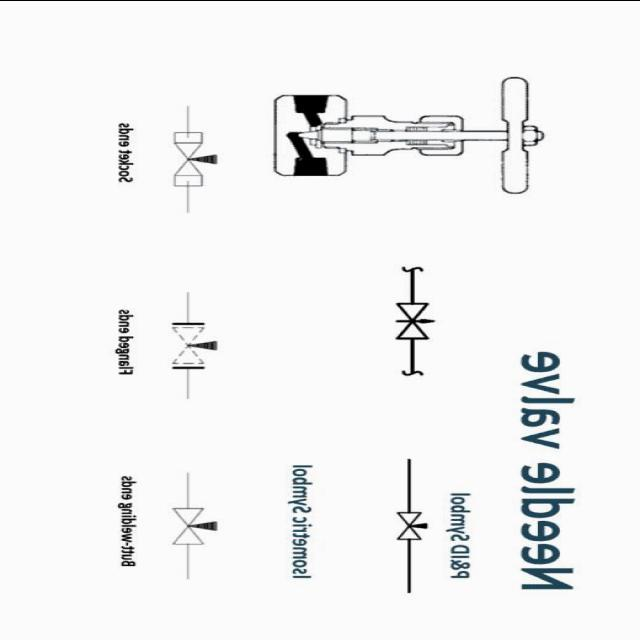Flanged Ends: (159, 312, 238, 388)
Needle Valve: (379, 292, 458, 346), (163, 496, 229, 553), (387, 506, 437, 548)
Socket Ends: (159, 118, 234, 200)
